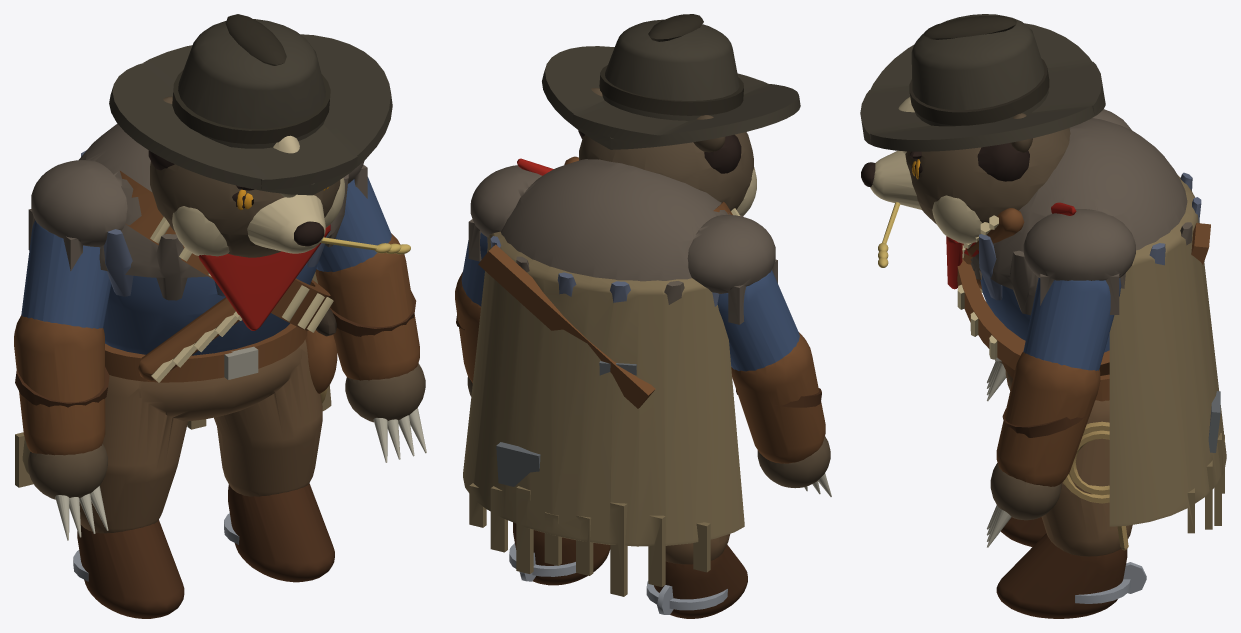
Rendered from badlander.glb.
3 renders of one model, left to right at view 1: azimuth 30°, elevation 25°; view 2: azimuth 150°, elevation 25°; view 3: azimuth 270°, elevation 25°, orthographic. The views are drawn at different scales.
Visible parts, largest first — view 1: creature; view 2: creature; view 3: creature.
Part boxes in pixels (x1,y1,x2,y2): creature: (14,14,426,618); creature: (455,14,831,618); creature: (860,14,1226,618).
Bounding box in the file's own units: 0.6843 × 1 × 0.5931.
